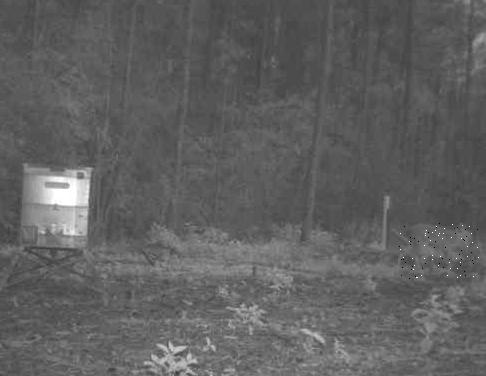Deer: (399, 223, 479, 280)
